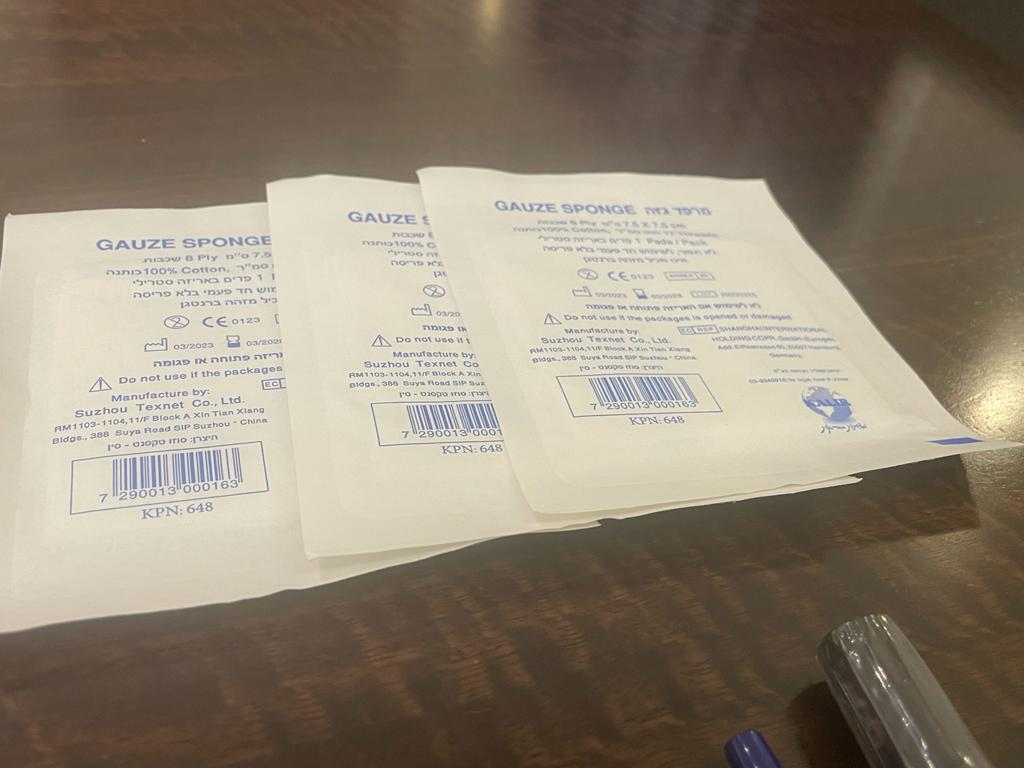other: (401, 140, 1018, 508), (12, 189, 505, 639), (257, 164, 537, 551)
